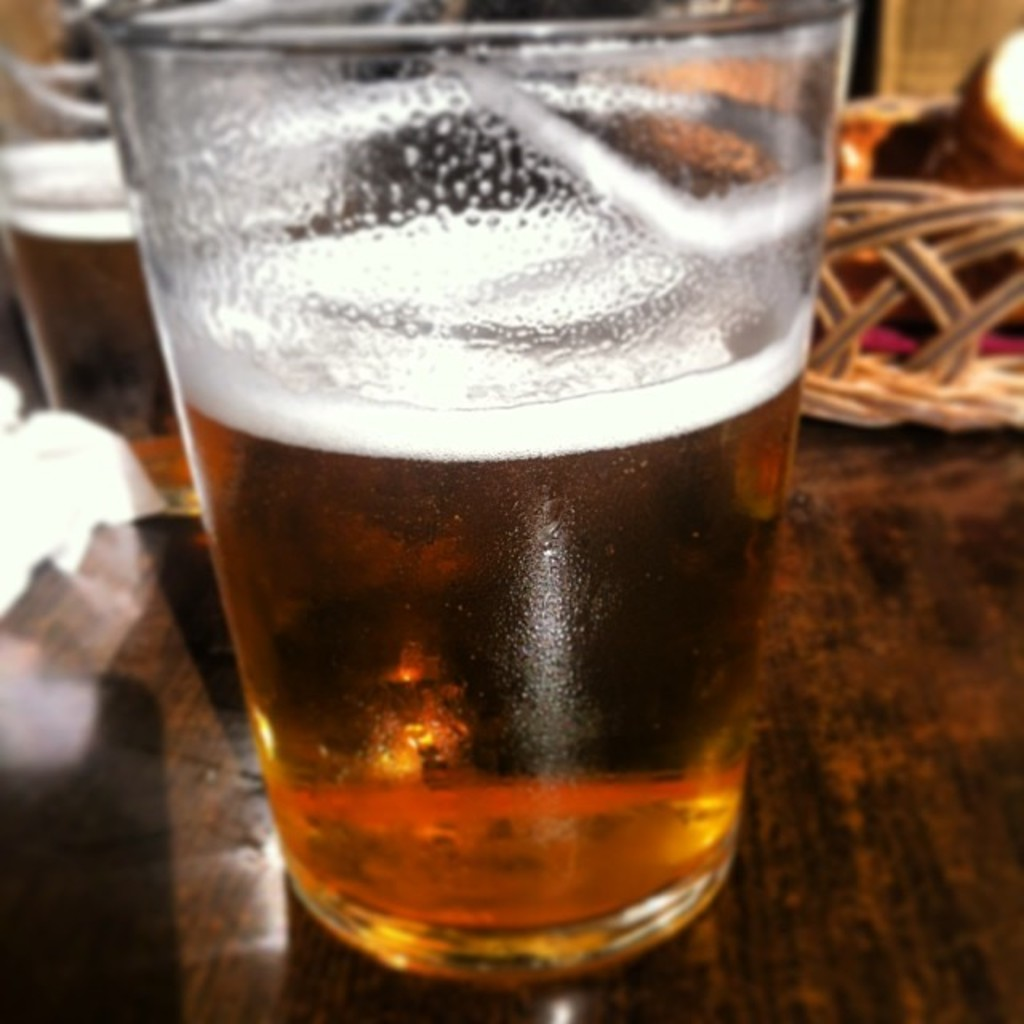Beer: (160, 299, 902, 931)
